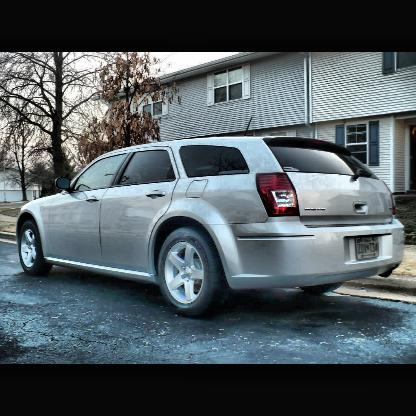Dodge Magnum Wagon 2008: (15, 134, 408, 321)
